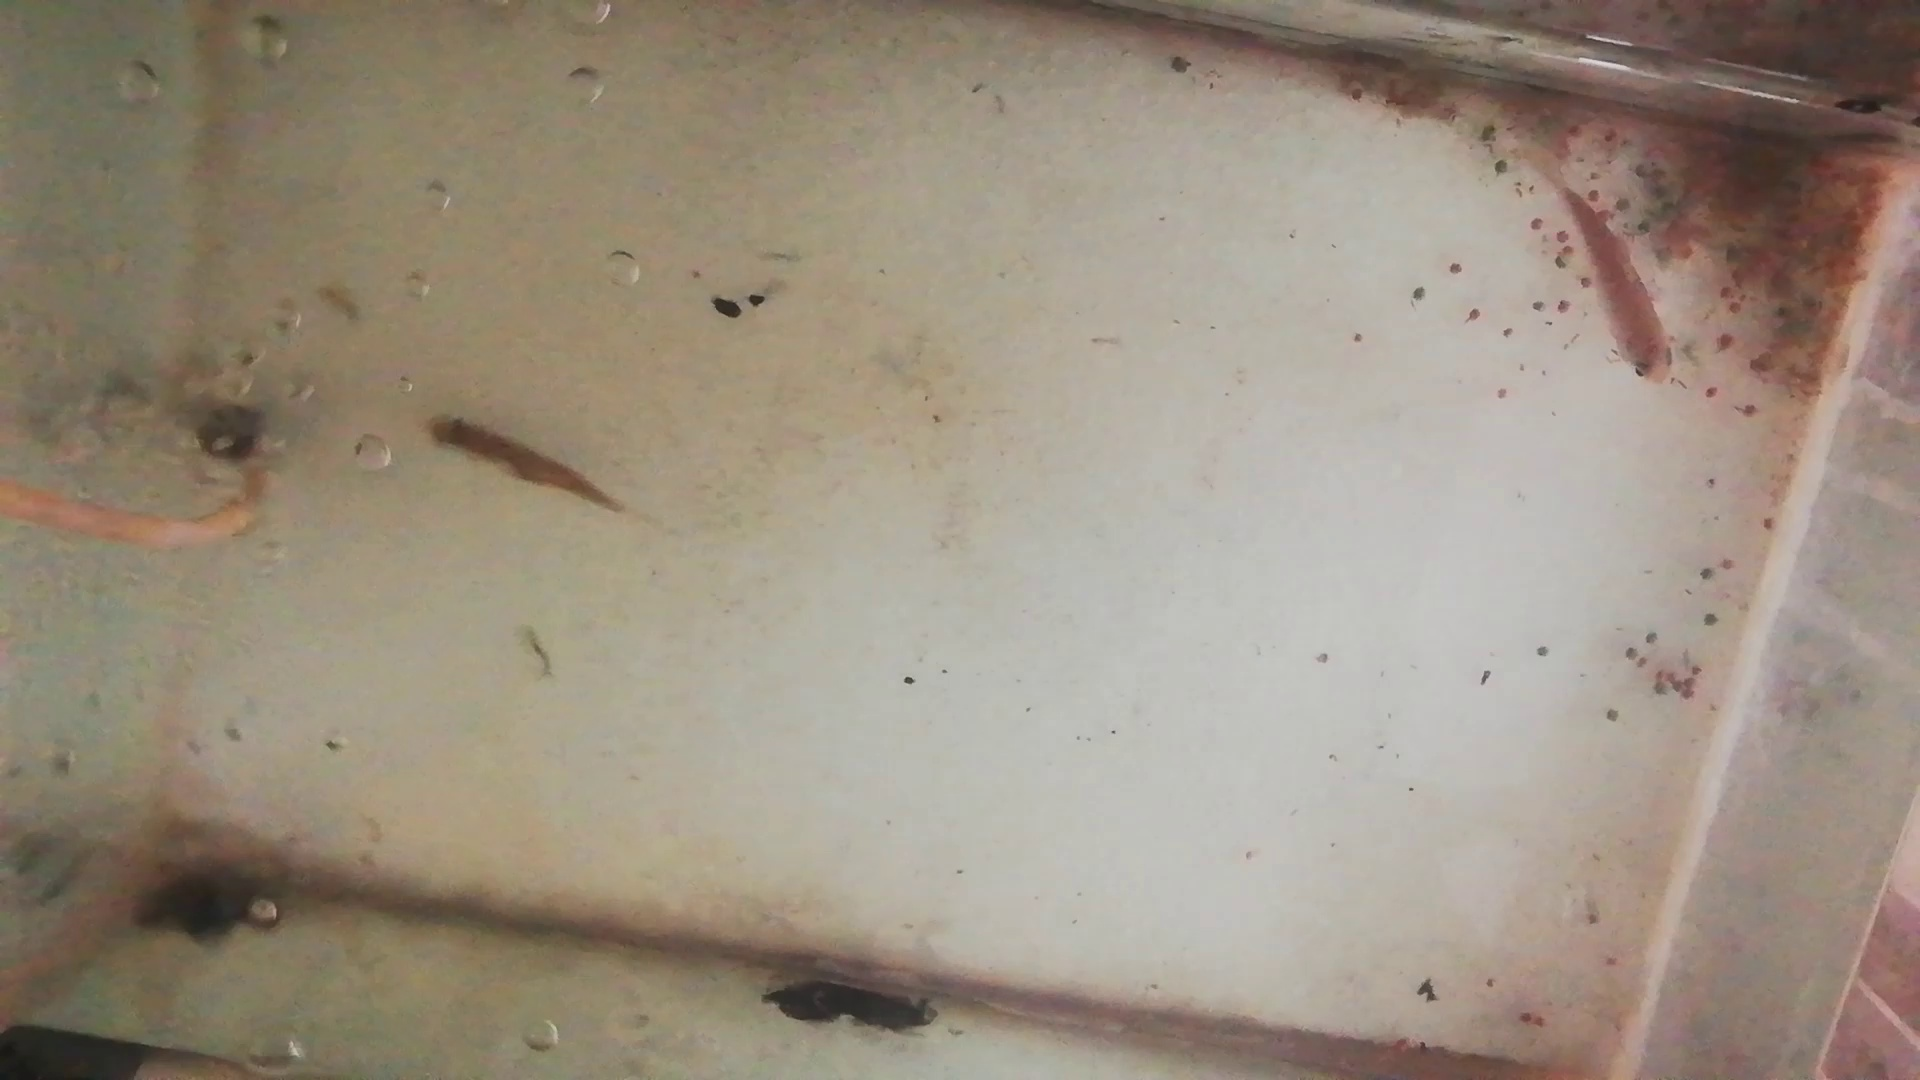fish: (1555, 183, 1684, 393), (425, 411, 620, 517)
